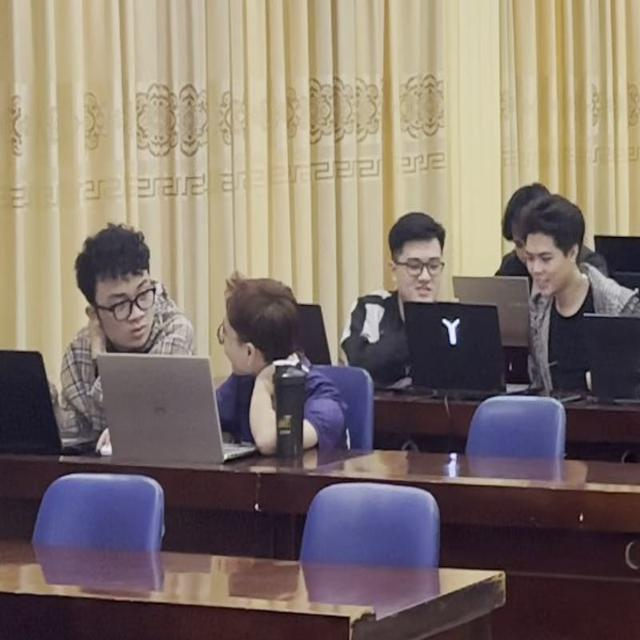Looking away: (211, 267, 302, 374), (82, 230, 159, 346), (390, 221, 445, 316), (530, 210, 574, 290)
